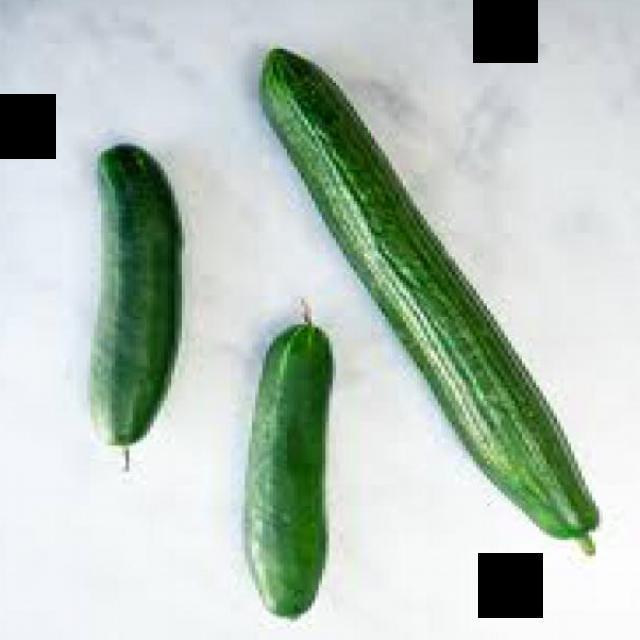cucumber: (210, 43, 620, 564), (230, 309, 346, 630), (77, 135, 189, 456)
